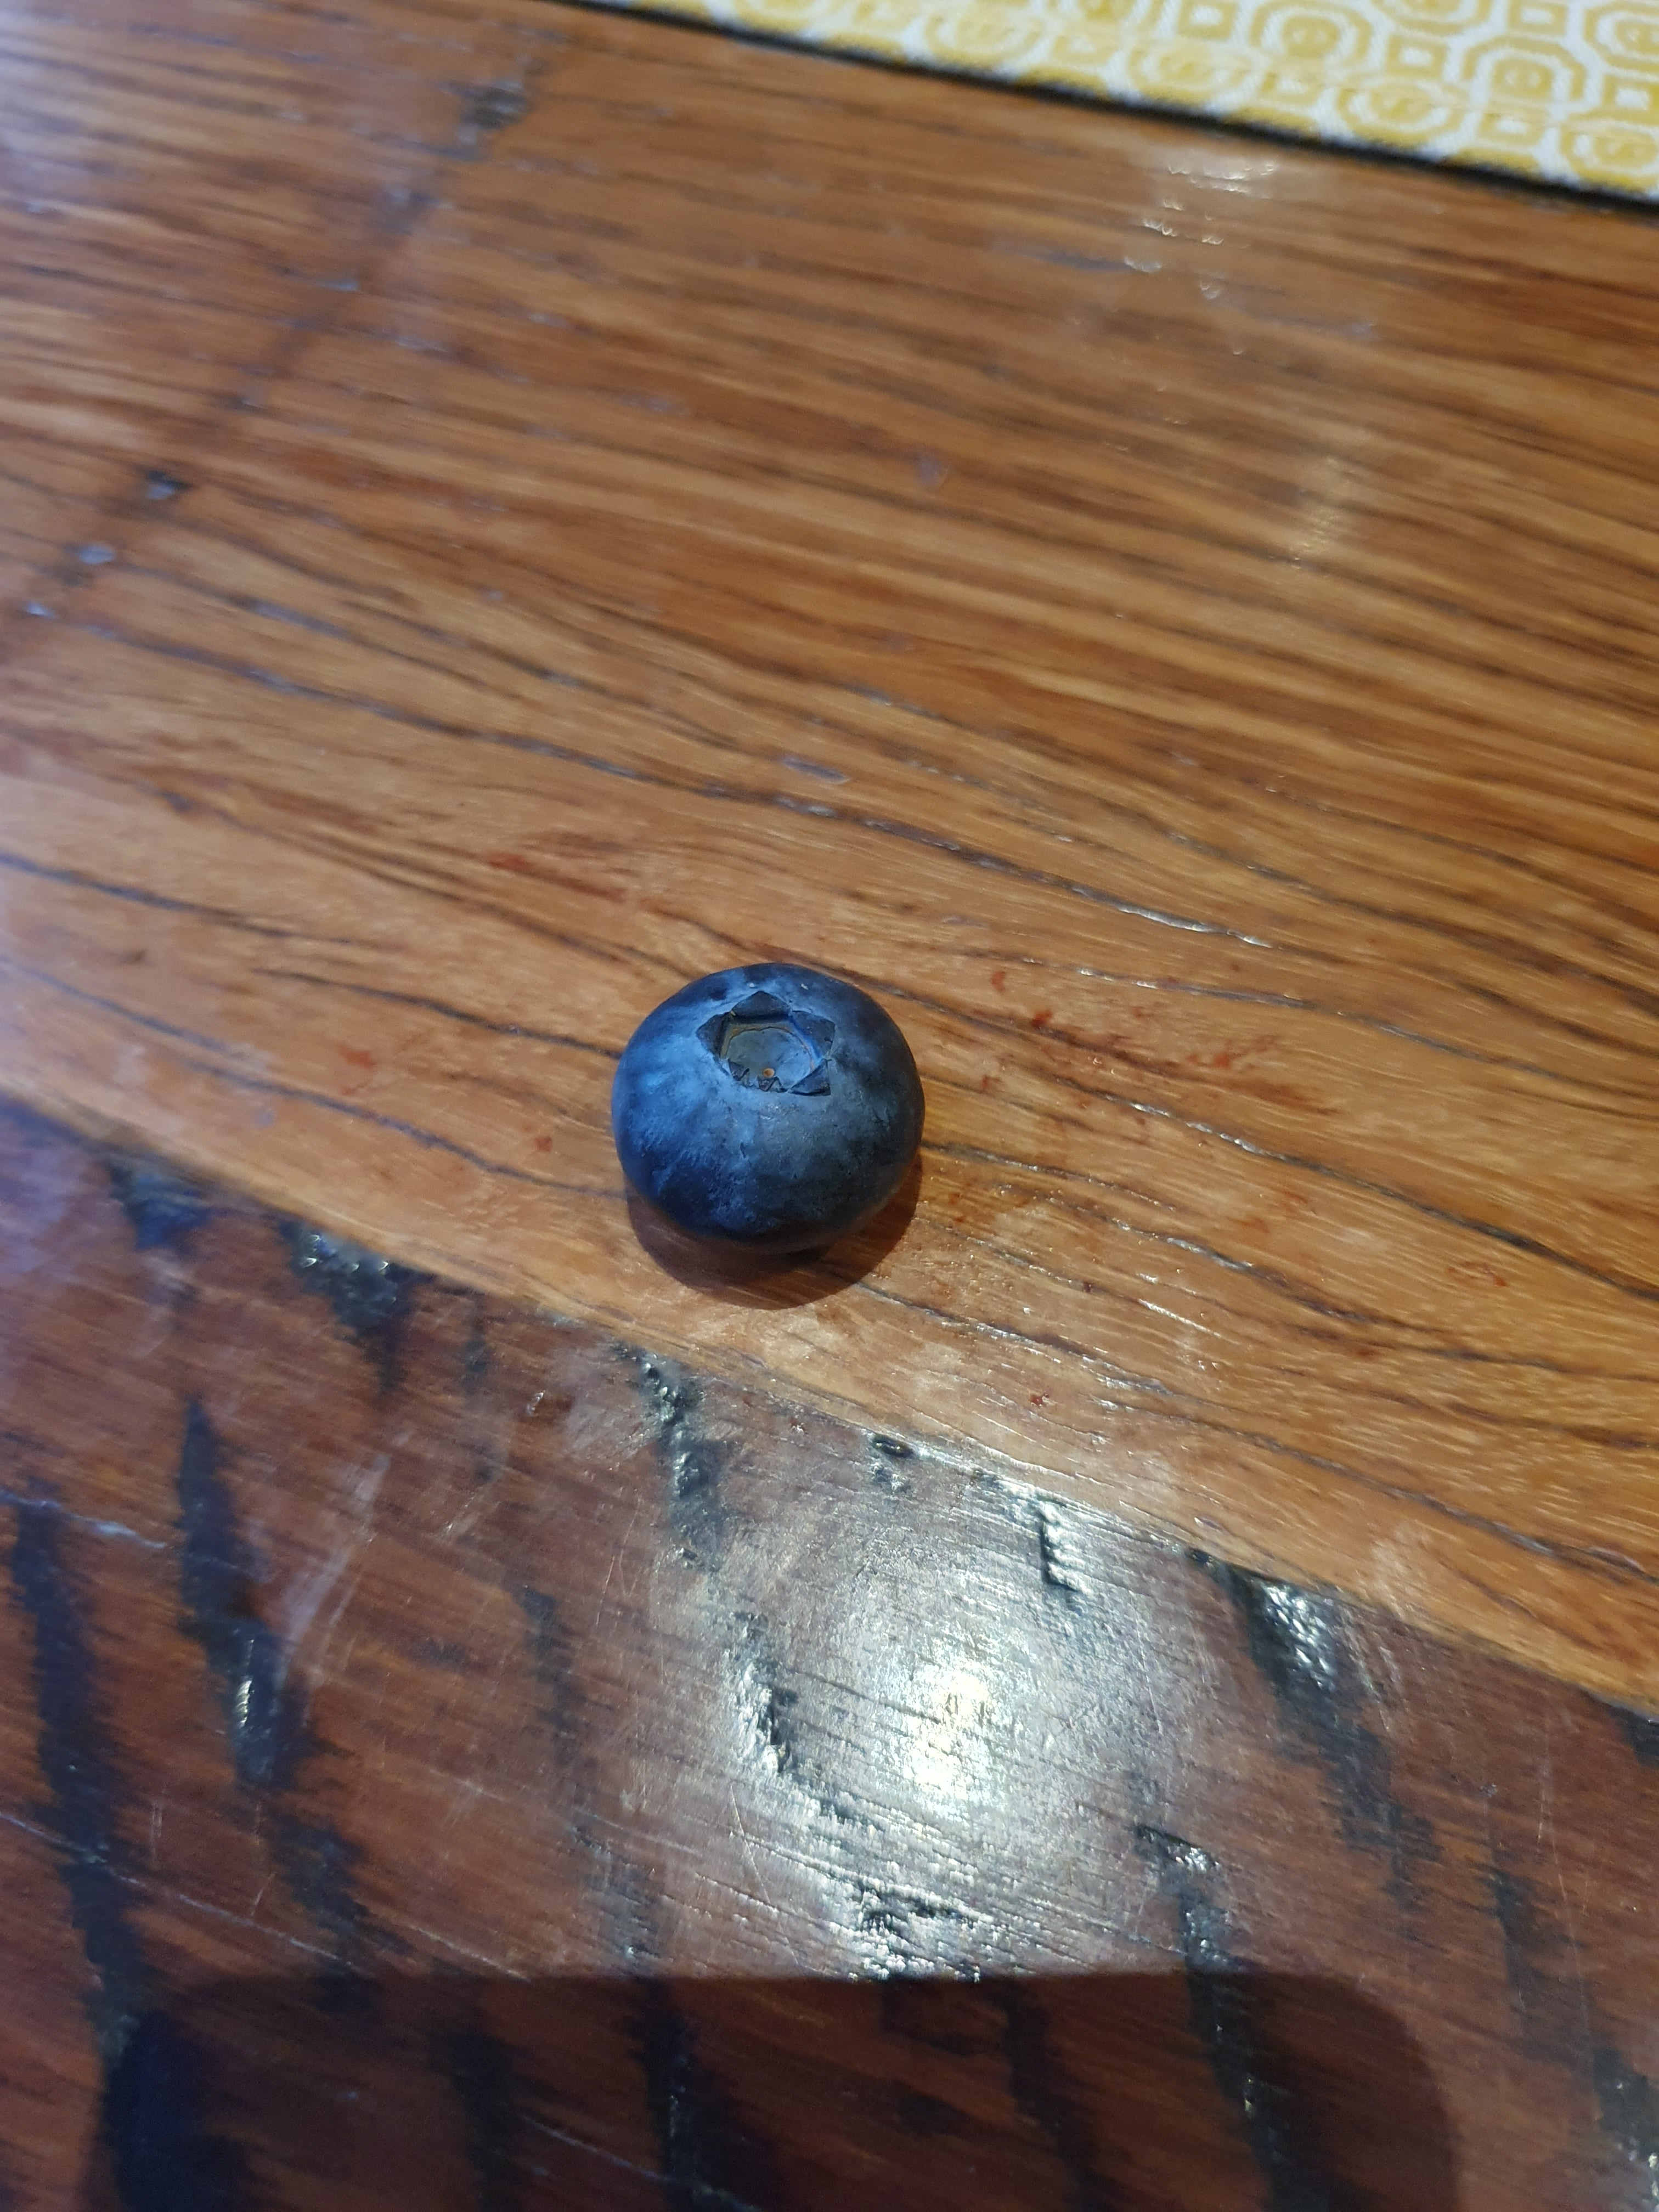blueberry: (561, 935, 953, 1277)
